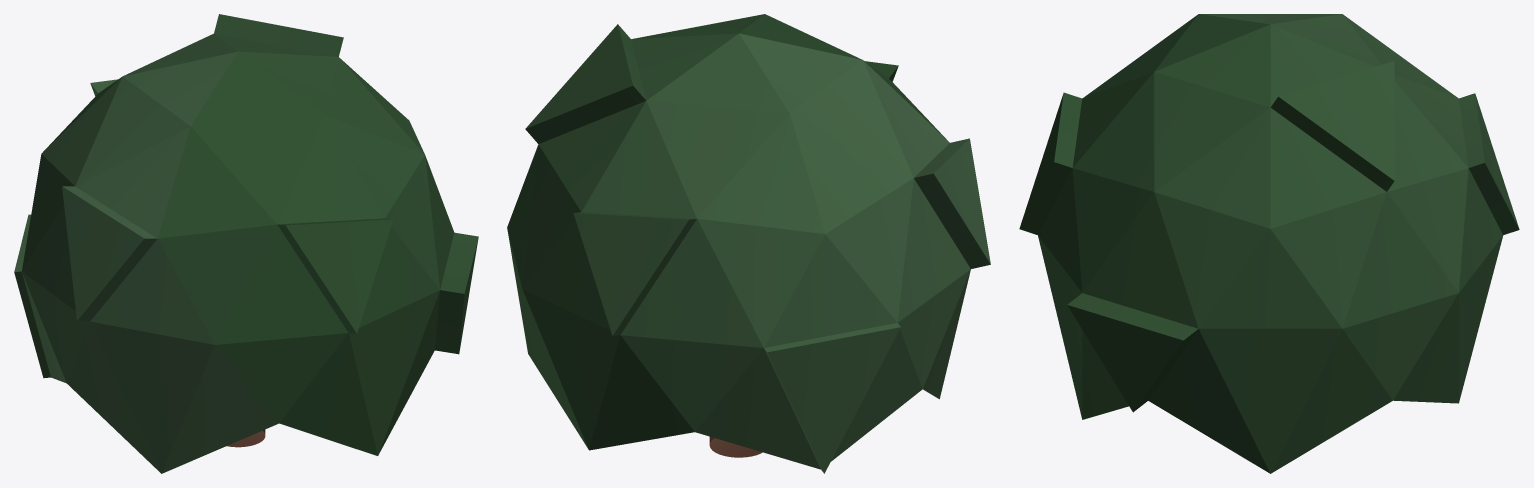
File: arbusto com tronco.fbx
3 renders of one model, left to right at view 1: azimuth 30°, elevation 25°; view 2: azimuth 150°, elevation 25°; view 3: azimuth 270°, elevation 25°, orthographic. The views are drawn at different scales.
Visible parts, largest first — view 1: Icosphere.001; view 2: Icosphere.001; view 3: Icosphere.001.
Part boxes in pixels (x1=…): Icosphere.001: x1=14, y1=14, x2=478, y2=473; Icosphere.001: x1=507, y1=14, x2=990, y2=473; Icosphere.001: x1=1019, y1=14, x2=1519, y2=473.
Size of the model in its own units: 207 by 192 by 215.
2 materials, 2 textured.
